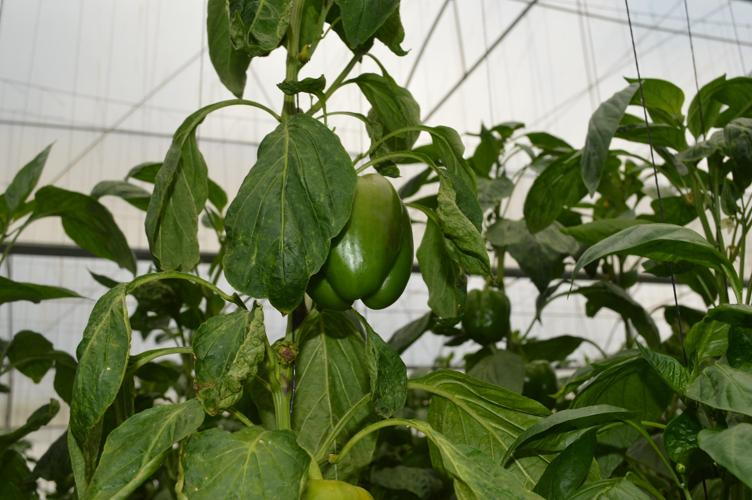BellPepper: (307, 175, 416, 309), (465, 289, 513, 345)
